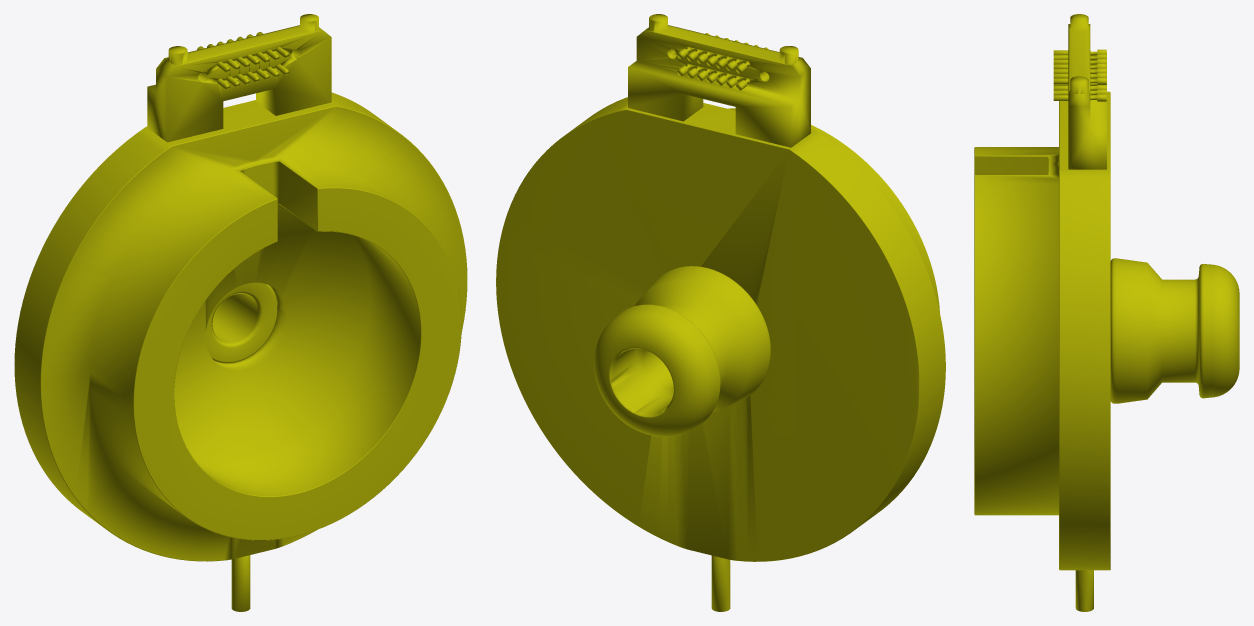
The model's file is oldAttachment.dae.
The picture shows the model from 3 angles, left to right: view 1: azimuth 30°, elevation 25°; view 2: azimuth 150°, elevation 25°; view 3: azimuth 270°, elevation 25°; orthographic projection. The views are drawn at different scales.
Visible parts, largest first — view 1: transform1; view 2: transform1; view 3: transform1.
Part boxes in pixels (left/top/right/bottom): transform1: left=14, top=14, right=467, bottom=611; transform1: left=496, top=14, right=945, bottom=611; transform1: left=974, top=14, right=1239, bottom=611.
Size of the model in its own units: 0.13 by 0.1675 by 0.072.
1 material, 1 textured.
